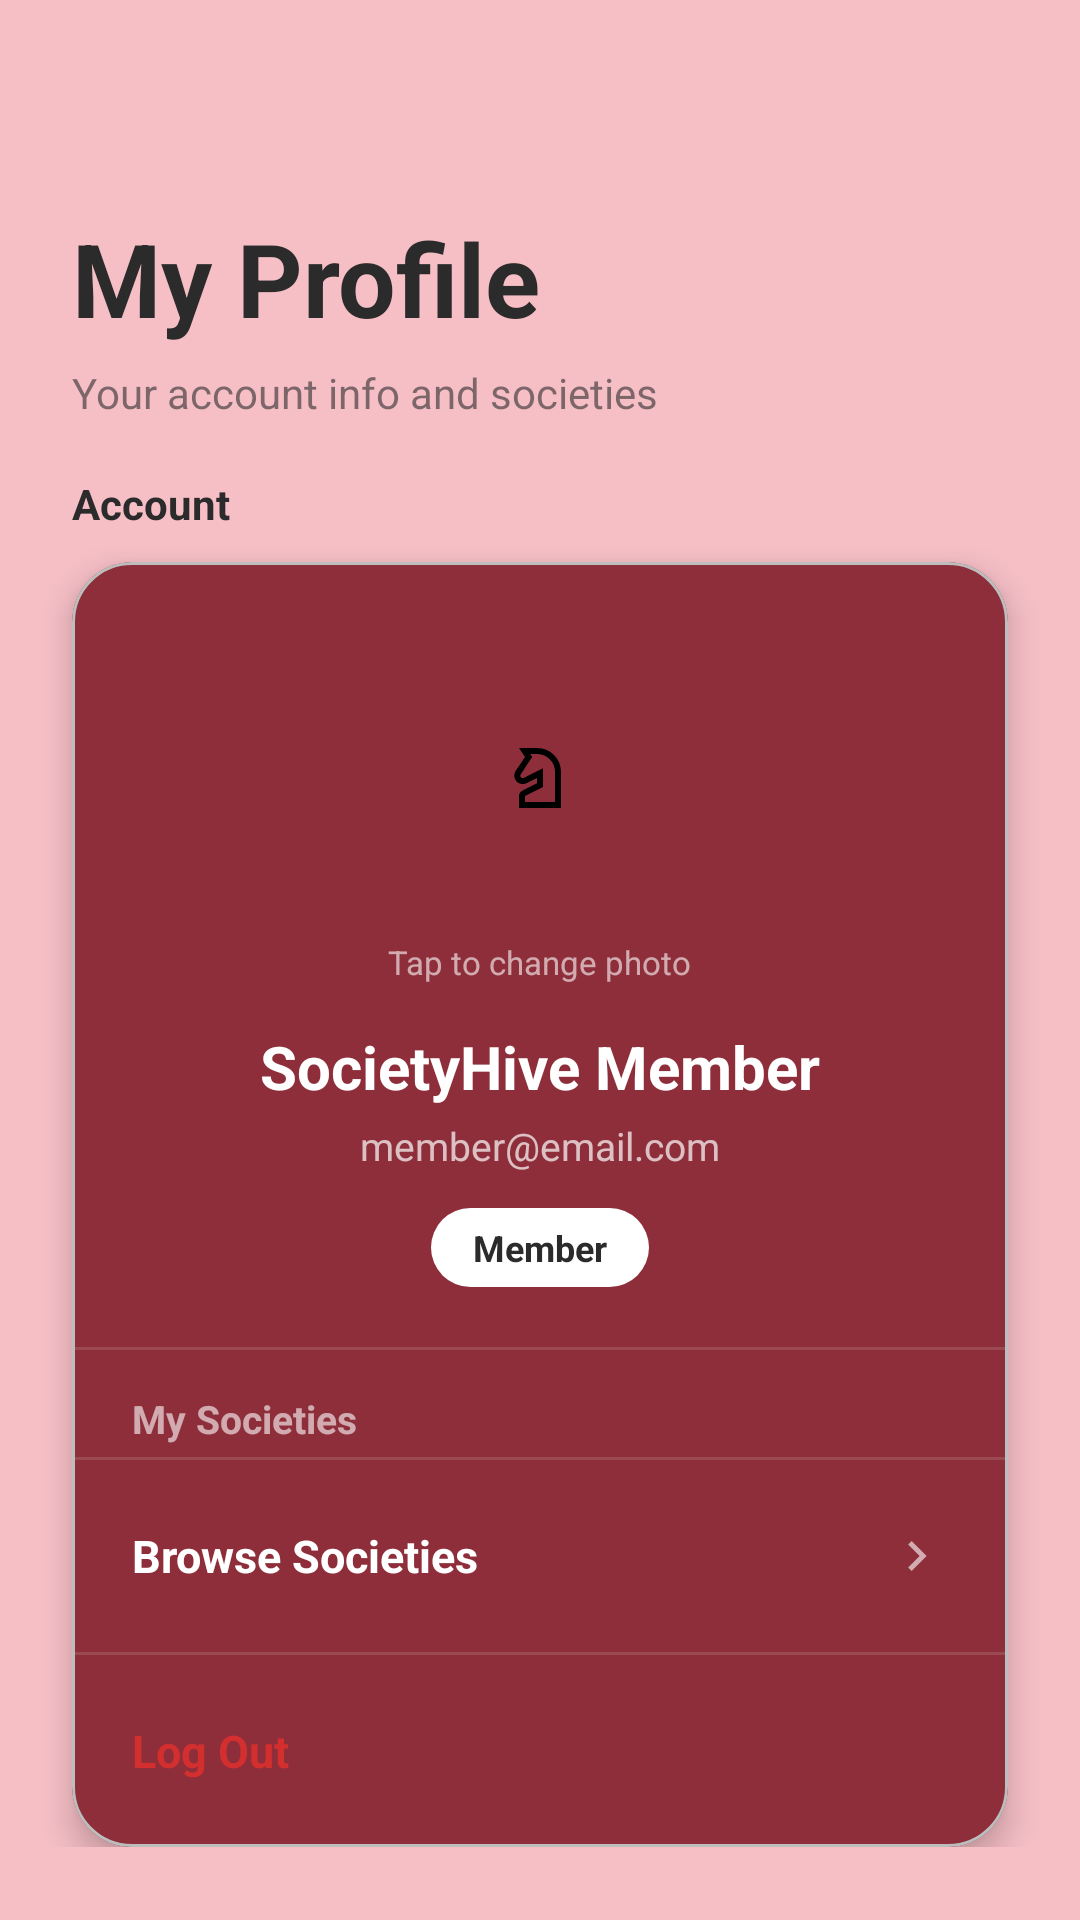

Icons on this 1080px x 1920px Android screen, each with its box as (x1, y1, x2, y2):
chevron right: (908, 1541, 926, 1571)
